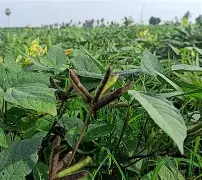crops: (0, 20, 200, 177), (0, 24, 91, 47), (100, 23, 181, 45), (170, 48, 201, 93), (109, 39, 147, 64)
